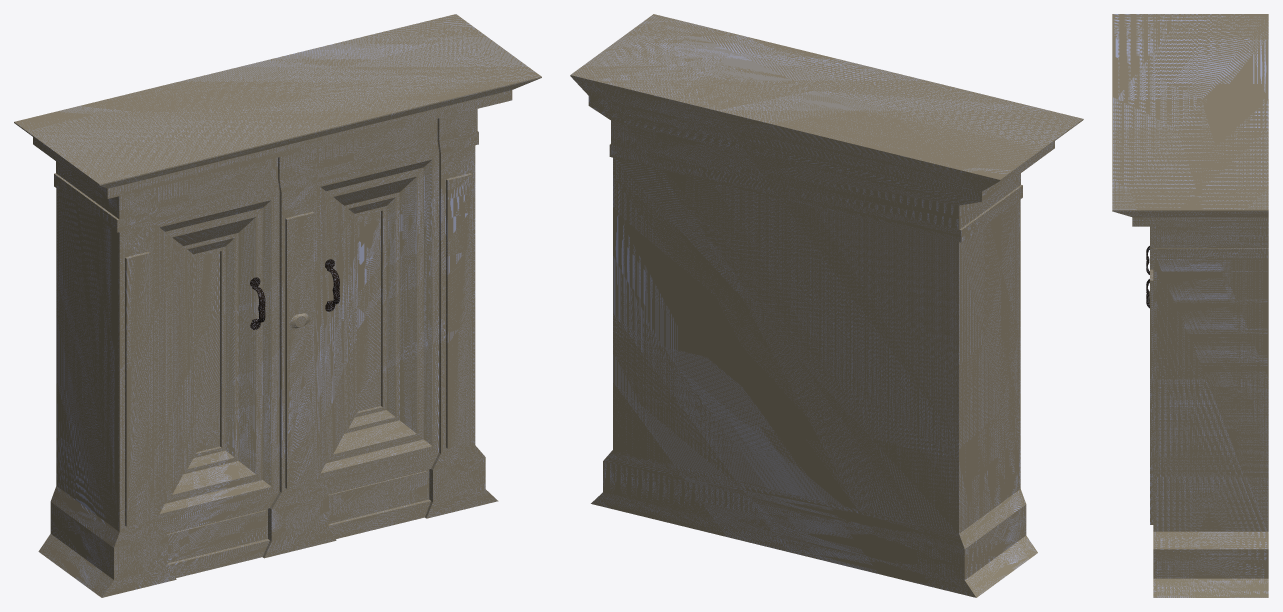
Rendered from ACC_CUBBARD.fbx.
The picture shows the model from 3 angles, left to right: view 1: azimuth 30°, elevation 25°; view 2: azimuth 150°, elevation 25°; view 3: azimuth 270°, elevation 25°; orthographic projection. The views are drawn at different scales.
Parts seen in each view (by area): view 1: Antique_Chest__Belgium_1; view 2: Antique_Chest__Belgium_1; view 3: Antique_Chest__Belgium_1.
Boxes of the visible parts, x1,y1,x2,y2 form: Antique_Chest__Belgium_1: (14,14,541,597); Antique_Chest__Belgium_1: (570,14,1083,597); Antique_Chest__Belgium_1: (1112,14,1268,597).
Bounding box in the file's own units: 61.1 × 57.54 × 20.53.
